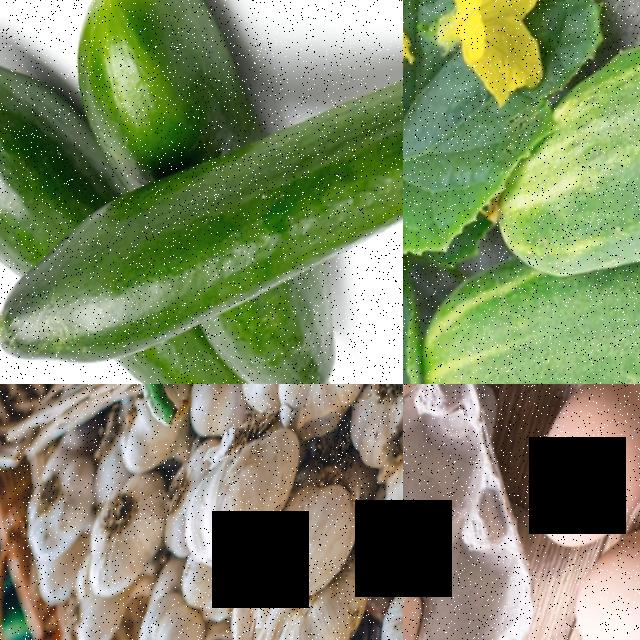cucumber: (217, 0, 403, 332), (0, 144, 249, 384), (14, 0, 266, 190), (403, 210, 640, 384), (518, 0, 640, 330), (0, 43, 109, 288)
egg_: (483, 384, 640, 582), (535, 494, 640, 640)
garlic: (146, 404, 321, 597), (233, 462, 378, 619), (50, 459, 186, 610), (0, 442, 110, 570), (337, 384, 403, 565), (244, 384, 392, 457), (89, 589, 217, 640), (337, 573, 403, 640)
